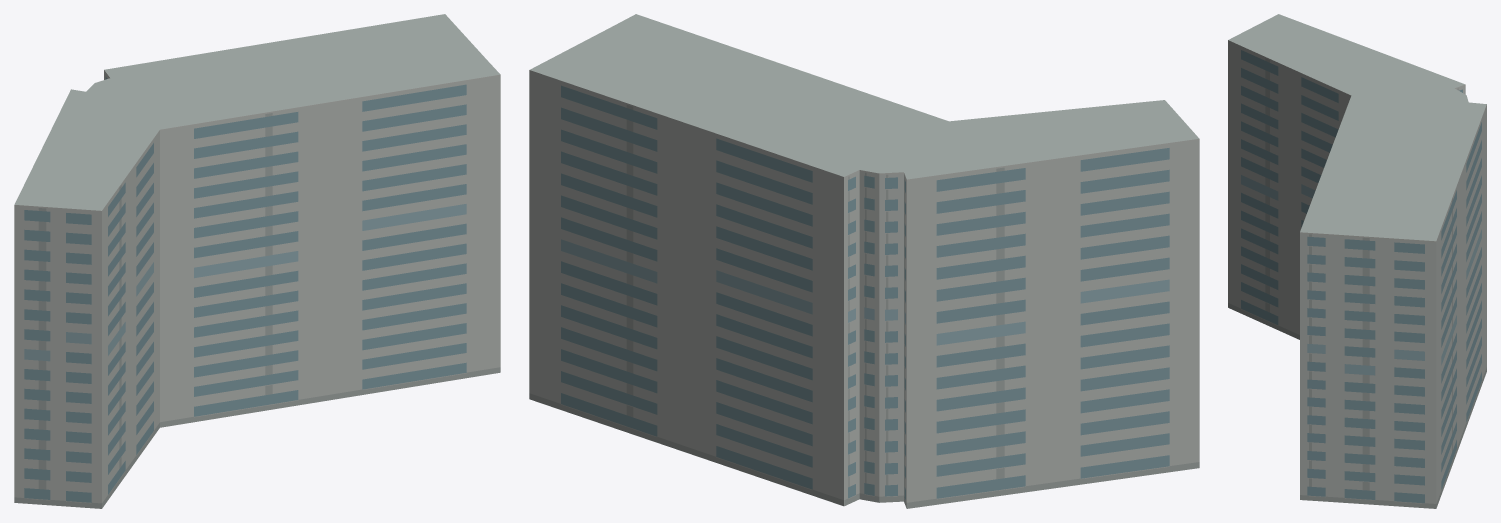
The model's file is residential-e743d66a-2f38-487a-97af-7b548961d09c.glb.
3 renders of one model, left to right at view 1: azimuth 30°, elevation 25°; view 2: azimuth 150°, elevation 25°; view 3: azimuth 270°, elevation 25°, orthographic. The views are drawn at different scales.
Visible parts, largest first — view 1: residential-e743d66a-2f38-487a-97af-7b548961d09c.tmp; view 2: residential-e743d66a-2f38-487a-97af-7b548961d09c.tmp; view 3: residential-e743d66a-2f38-487a-97af-7b548961d09c.tmp.
Boxes of the visible parts, bbox=[...] form: residential-e743d66a-2f38-487a-97af-7b548961d09c.tmp: bbox=[14, 14, 500, 508]; residential-e743d66a-2f38-487a-97af-7b548961d09c.tmp: bbox=[529, 14, 1199, 508]; residential-e743d66a-2f38-487a-97af-7b548961d09c.tmp: bbox=[1228, 14, 1486, 508].
Bounding box in the file's own units: 92.88 × 51 × 44.69.
